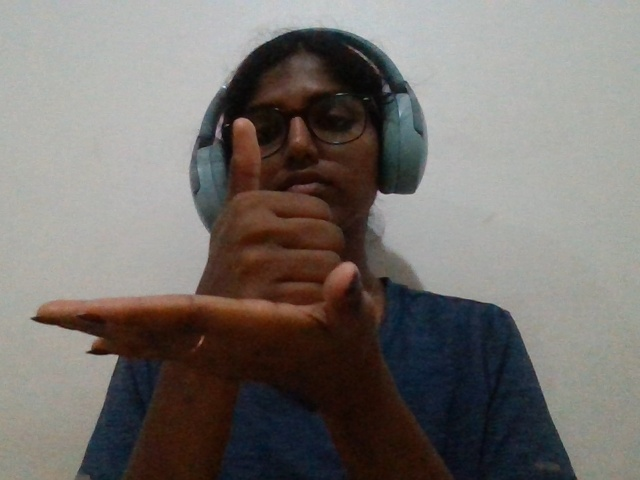Help: (13, 90, 433, 476)
